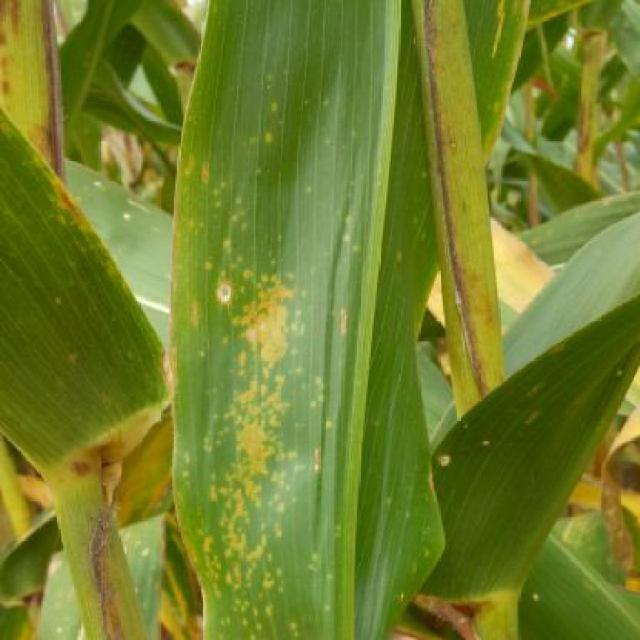Corn_Rust: (139, 0, 426, 640)
